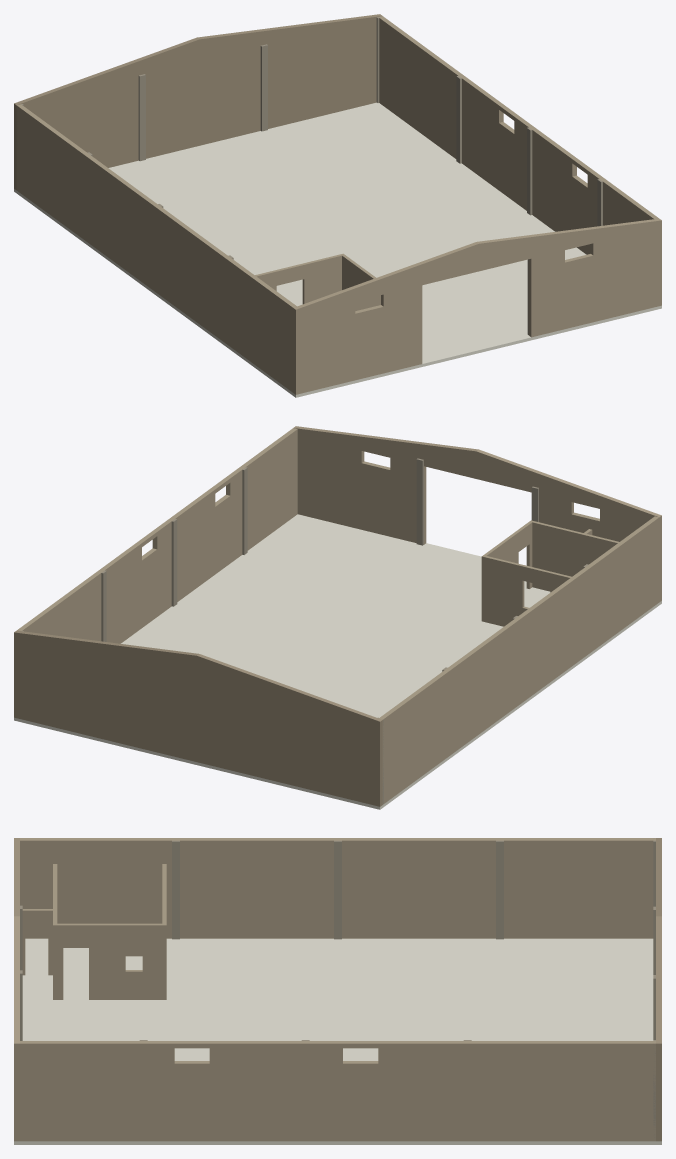
File: Batiment_Etat_Existant.glb
The picture shows the model from 3 angles, top to bottom: view 1: azimuth 30°, elevation 25°; view 2: azimuth 150°, elevation 25°; view 3: azimuth 270°, elevation 25°; orthographic projection. The views are drawn at different scales.
Visible parts, largest first — view 1: Mur (×14), Dallage continu, Couronnement à deux rampants (×2), Face intérieure avec grande ouverture, Raidisseur du pignon (×2); view 2: Mur (×13), Dallage continu, Couronnement à deux rampants (×2), Fermeture non visible du local principal, Face intérieure avec grande ouverture, Jambage renforcé de l’entrée, Raidisseur latéral droit; view 3: Mur (×8), Dallage continu, Côté avec accès et petite ouverture (×6), Couronnement à deux rampants (×2), Raidisseur latéral gauche (×3), Fermeture non visible du local principal.
Boxes of the visible parts, left/top/right/bottom form: Mur (×14): left=14, top=16, right=661, bottom=394; Dallage continu: left=14, top=102, right=661, bottom=397; Couronnement à deux rampants (×2): left=14, top=14, right=661, bottom=309; Face intérieure avec grande ouverture: left=302, top=254, right=343, bottom=304; Raidisseur du pignon (×2): left=138, top=44, right=267, bottom=161; Mur (×13): left=14, top=428, right=661, bottom=806; Dallage continu: left=14, top=514, right=661, bottom=809; Couronnement à deux rampants (×2): left=14, top=426, right=661, bottom=721; Fermeture non visible du local principal: left=530, top=521, right=619, bottom=591; Face intérieure avec grande ouverture: left=481, top=555, right=524, bottom=626; Jambage renforcé de l’entrée: left=416, top=458, right=423, bottom=545; Raidisseur latéral droit: left=171, top=518, right=177, bottom=606; Mur (×8): left=14, top=838, right=661, bottom=1141; Dallage continu: left=14, top=938, right=661, bottom=1144; Côté avec accès et petite ouverture (×6): left=53, top=923, right=166, bottom=999; Couronnement à deux rampants (×2): left=14, top=838, right=661, bottom=1043; Raidisseur latéral gauche (×3): left=172, top=840, right=503, bottom=939; Fermeture non visible du local principal: left=53, top=864, right=57, bottom=999.
Bounding box in the file's own units: 18 × 5.14 × 24.
